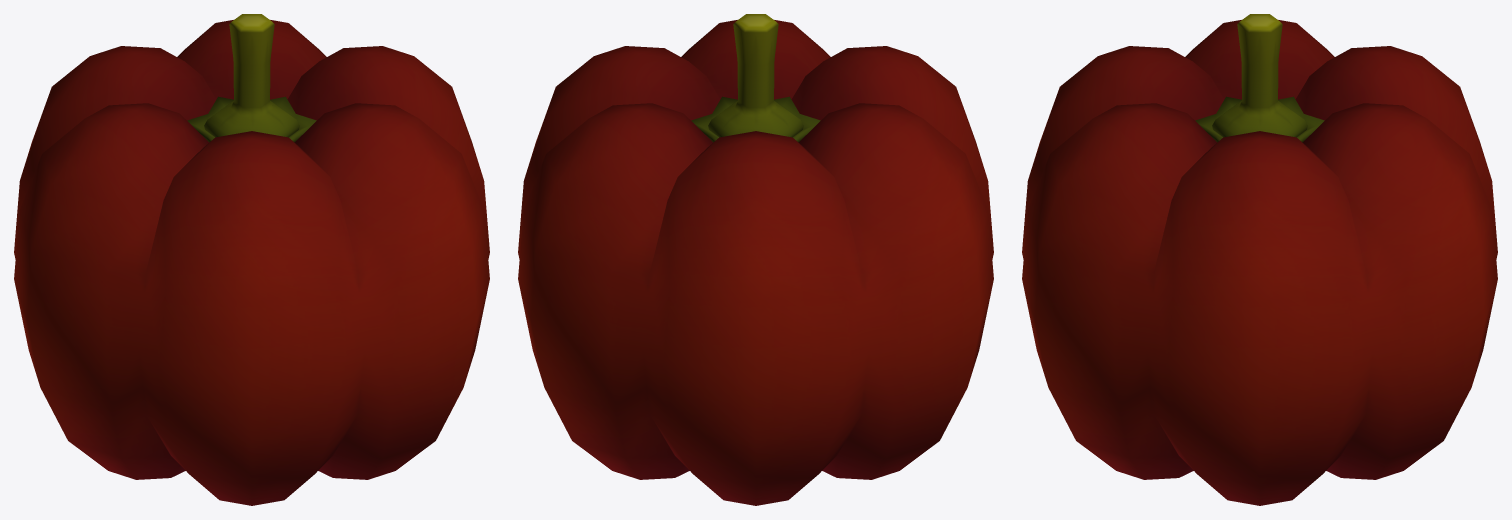
The model's file is Pepper_R.fbx.
The picture shows the model from 3 angles, left to right: view 1: azimuth 30°, elevation 25°; view 2: azimuth 150°, elevation 25°; view 3: azimuth 270°, elevation 25°; orthographic projection.
Parts seen in each view (by area): view 1: Pepper_R_Whole; view 2: Pepper_R_Whole; view 3: Pepper_R_Whole.
Part boxes in pixels (x1,y1,x2,y2): Pepper_R_Whole: [14, 14, 489, 505]; Pepper_R_Whole: [518, 14, 993, 505]; Pepper_R_Whole: [1022, 14, 1497, 505].
Size of the model in its own units: 2.3 by 2.08 by 2.11.
